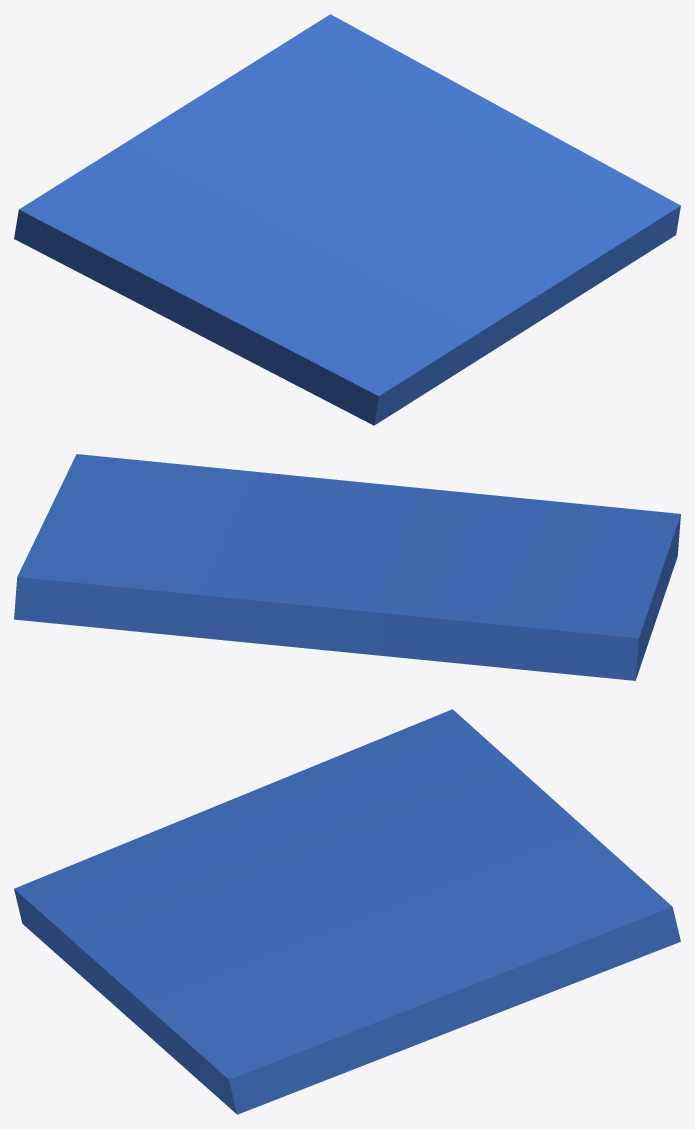
The model's file is MS_FalledWindow.fbx.
3 views of the same model, one above another, from view 1: azimuth 30°, elevation 25°; view 2: azimuth 150°, elevation 25°; view 3: azimuth 270°, elevation 25° (orthographic). The views are drawn at different scales.
Parts seen in each view (by area): view 1: Plano Ventana; view 2: Plano Ventana; view 3: Plano Ventana.
Part boxes in pixels (left/top/right/bottom): Plano Ventana: left=14, top=14, right=680, bottom=425; Plano Ventana: left=14, top=454, right=680, bottom=680; Plano Ventana: left=14, top=709, right=680, bottom=1114.
Size of the model in its own units: 1886 by 438 by 1742.
1 material, 1 textured.
